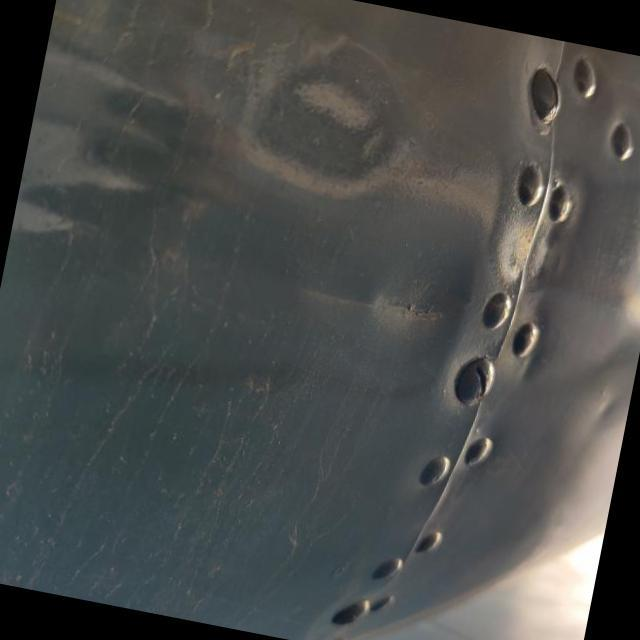Dent: (198, 0, 457, 241), (341, 252, 475, 368)
